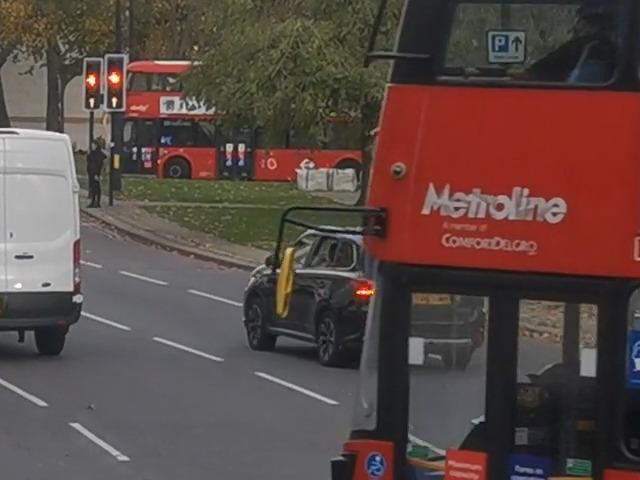bus: (397, 0, 640, 480), (120, 54, 371, 177)
car: (241, 218, 471, 361)
van: (0, 126, 85, 353)
